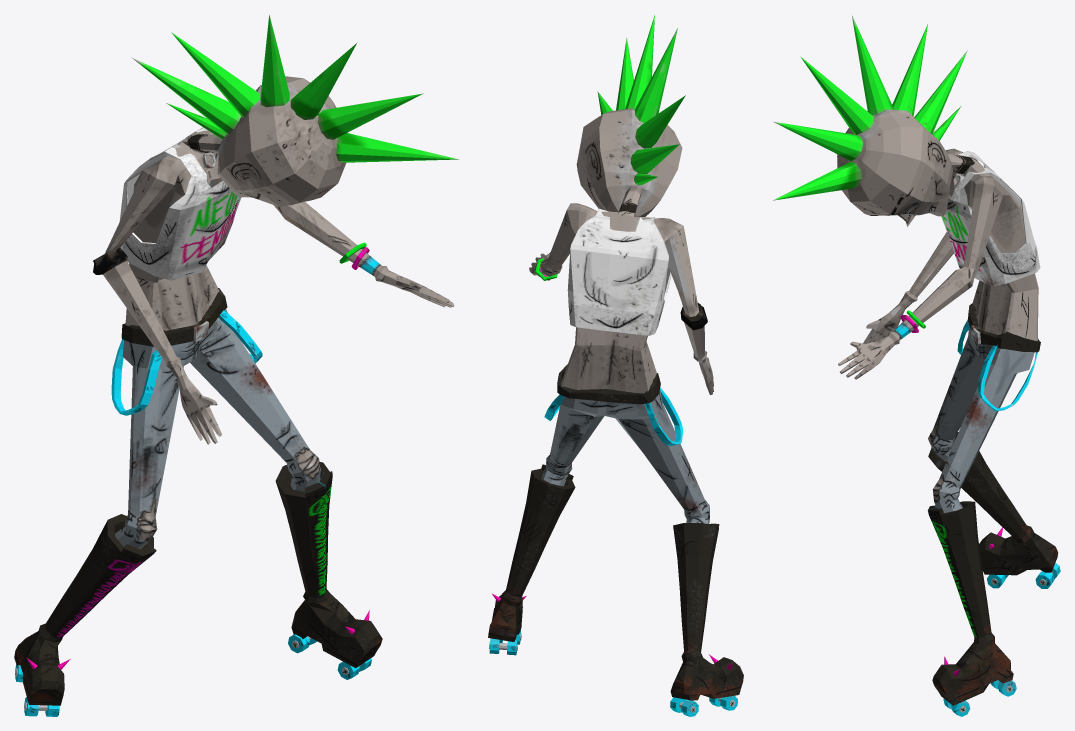
The model's file is punkAnimation_000054.obj.
3 views of the same model, side by side, from view 1: azimuth 30°, elevation 25°; view 2: azimuth 150°, elevation 25°; view 3: azimuth 270°, elevation 25° (orthographic). The views are drawn at different scales.
Visible parts, largest first — view 1: Cube.004_Cube.003; view 2: Cube.004_Cube.003; view 3: Cube.004_Cube.003.
Part boxes in pixels (x1=…): Cube.004_Cube.003: x1=14, y1=15, x2=459, y2=716; Cube.004_Cube.003: x1=488, y1=15, x2=743, y2=716; Cube.004_Cube.003: x1=773, y1=14, x2=1060, y2=716.
Size of the model in its own units: 3.18 by 6.66 by 2.74.
